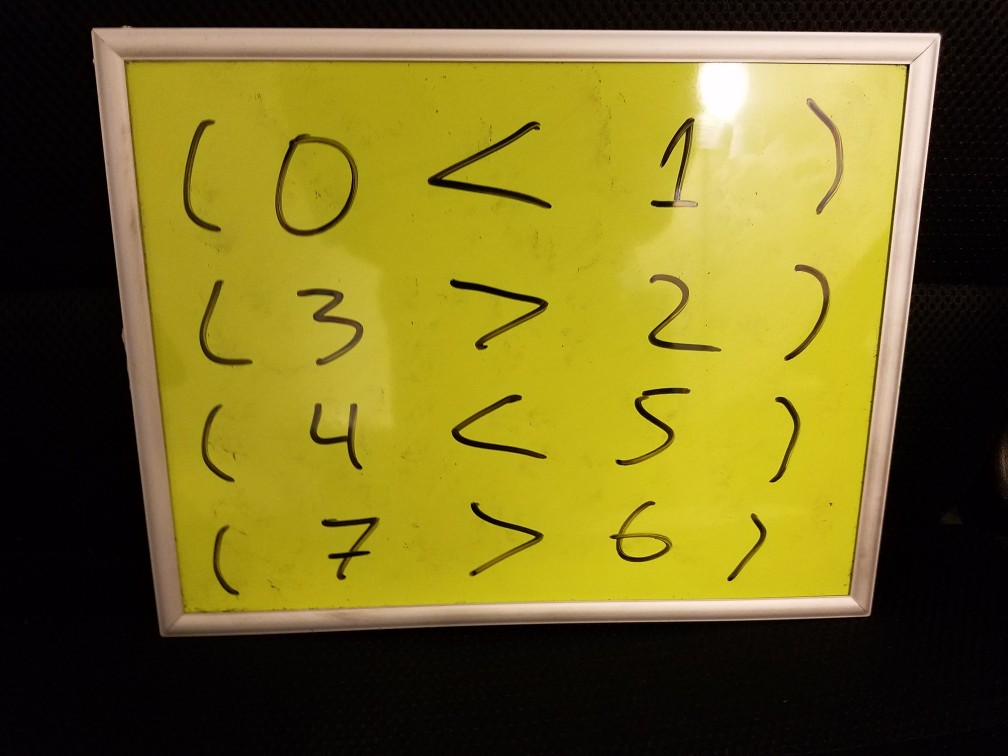(: (170, 107, 227, 246), (189, 271, 256, 374), (189, 397, 241, 493), (199, 517, 250, 603)
): (794, 86, 851, 221), (774, 257, 835, 365), (757, 385, 809, 489), (722, 505, 771, 582)
0: (266, 126, 363, 239)
1: (641, 109, 711, 222)
2: (636, 264, 726, 365)
3: (291, 275, 370, 374)
4: (299, 391, 373, 481)
5: (607, 375, 695, 475)
6: (605, 492, 680, 571)
7: (307, 504, 392, 587)
<: (418, 115, 559, 218), (447, 393, 558, 469)
>: (438, 262, 557, 356), (462, 494, 551, 579)
